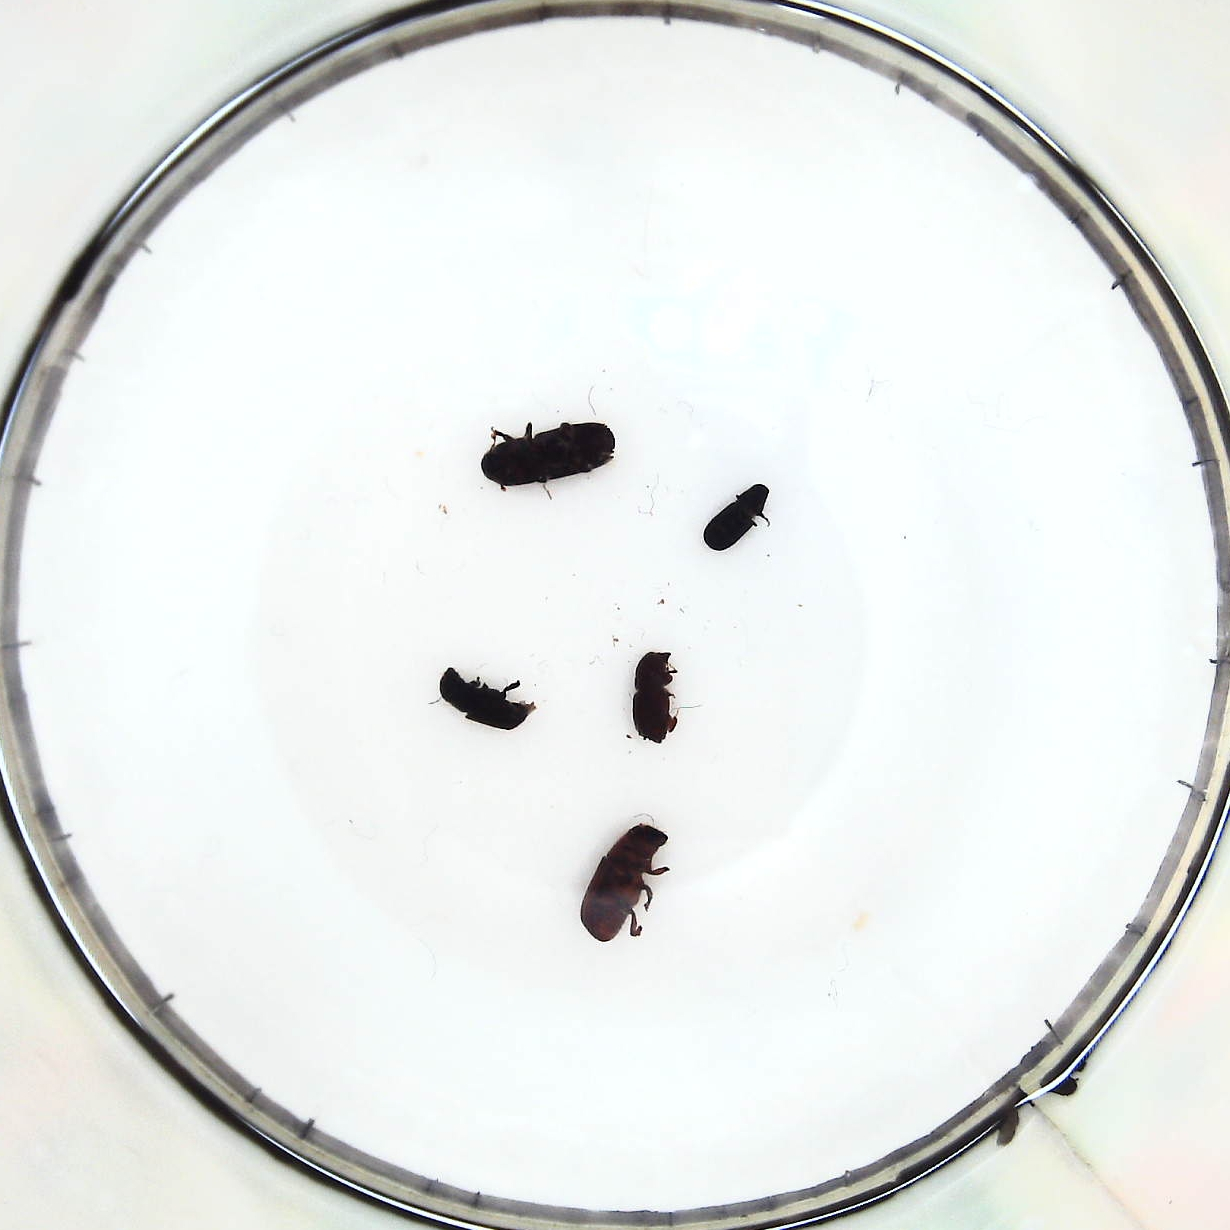Boerner: (478, 420, 616, 491)
Leconte: (581, 826, 665, 943)
Linnaeus: (629, 647, 681, 747)
armandi: (435, 665, 535, 732)
coleoptera: (699, 482, 773, 550)
